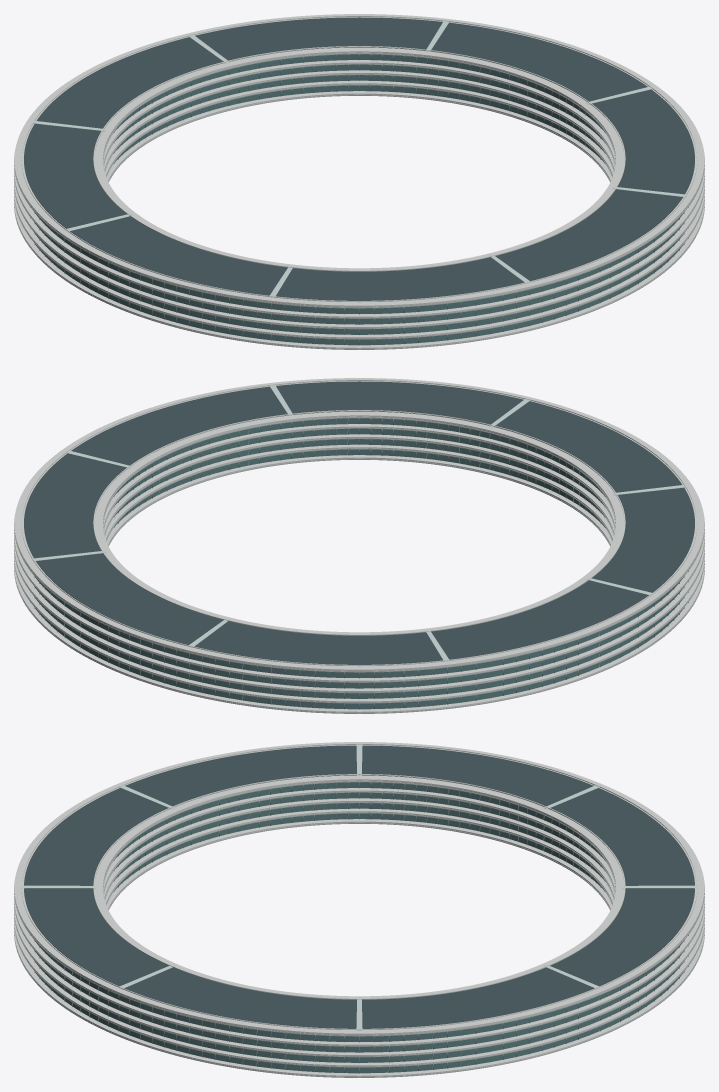
The model's file is journey-apple-park.glb.
3 renders of one model, top to bottom at view 1: azimuth 30°, elevation 25°; view 2: azimuth 150°, elevation 25°; view 3: azimuth 270°, elevation 25°, orthographic.
Visible parts, largest first — view 1: Apple Park · restrained roof rhythm, Apple Park · continuous sunshades, Apple Park · inner and outer glass; view 2: Apple Park · restrained roof rhythm, Apple Park · continuous sunshades, Apple Park · inner and outer glass; view 3: Apple Park · restrained roof rhythm, Apple Park · continuous sunshades, Apple Park · inner and outer glass.
Boxes of the visible parts, x1=… form: Apple Park · restrained roof rhythm: x1=21, y1=15, x2=697, y2=345; Apple Park · continuous sunshades: x1=14, y1=14, x2=704, y2=349; Apple Park · inner and outer glass: x1=34, y1=54, x2=684, y2=345; Apple Park · restrained roof rhythm: x1=21, y1=379, x2=697, y2=709; Apple Park · continuous sunshades: x1=14, y1=378, x2=704, y2=713; Apple Park · inner and outer glass: x1=34, y1=418, x2=684, y2=709; Apple Park · restrained roof rhythm: x1=21, y1=743, x2=697, y2=1073; Apple Park · continuous sunshades: x1=14, y1=742, x2=704, y2=1077; Apple Park · inner and outer glass: x1=34, y1=782, x2=684, y2=1073.
Size of the model in its own units: 4.65 by 0.338 by 4.65.
